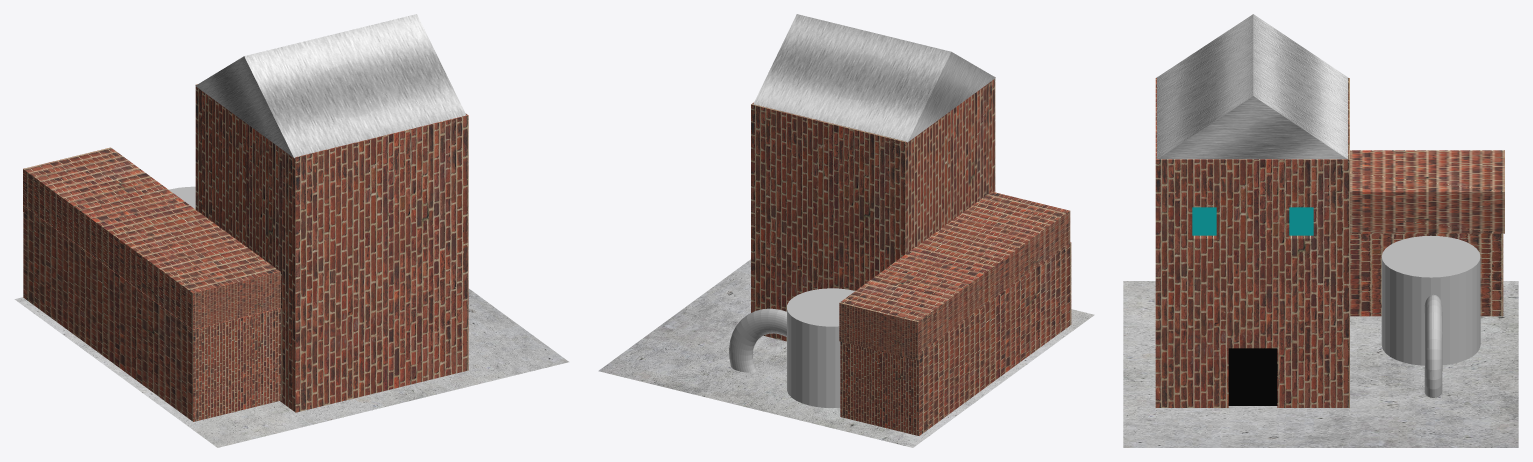
Rendered from factory_inject_underground.dae.
The picture shows the model from 3 angles, left to right: view 1: azimuth 30°, elevation 25°; view 2: azimuth 150°, elevation 25°; view 3: azimuth 270°, elevation 25°; orthographic projection. The views are drawn at different scales.
Parts seen in each view (by area): view 1: Cube_001, Cube, Cube_002, Cylinder, Plane_001; view 2: Cube_001, Cube_002, Cube, Cylinder, Plane_001, Cylinder_002, Cylinder_001; view 3: Cube_001, Plane_001, Cylinder, Cube_002, Cylinder_002, Cube, Cylinder_001.
Part boxes in pixels (box(x1,y1,x2,y2)): Cube_001: box(195, 84, 468, 412); Cube: box(23, 205, 281, 421); Cube_002: box(23, 147, 280, 328); Cylinder: box(195, 14, 466, 158); Plane_001: box(14, 288, 568, 447); Cube_001: box(751, 79, 995, 341); Cube_002: box(839, 191, 1070, 360); Cube: box(840, 242, 1071, 435); Cylinder: box(753, 14, 995, 142); Plane_001: box(598, 259, 1094, 447); Cylinder_002: box(787, 288, 854, 407); Cylinder_001: box(729, 308, 786, 372); Cube_001: box(1155, 78, 1349, 407); Plane_001: box(1123, 281, 1518, 447); Cylinder: box(1156, 14, 1348, 159); Cube_002: box(1350, 150, 1504, 233); Cylinder_002: box(1381, 235, 1480, 365); Cube: box(1350, 233, 1503, 316); Cylinder_001: box(1424, 294, 1442, 397).
Size of the model in its own units: 8 by 8 by 7.63.
